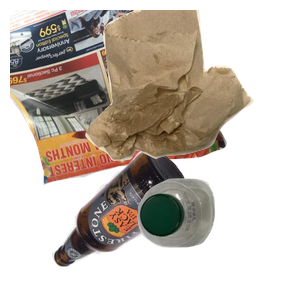glass: (49, 145, 229, 300)
paper: (10, 10, 230, 188)
plastic: (135, 176, 300, 300)
trash: (83, 10, 300, 163)
